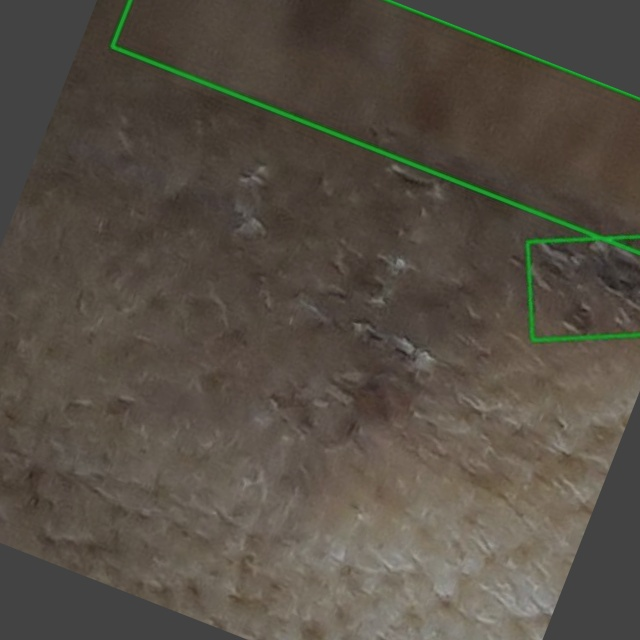Eczema: (112, 0, 639, 253), (528, 236, 639, 339)
